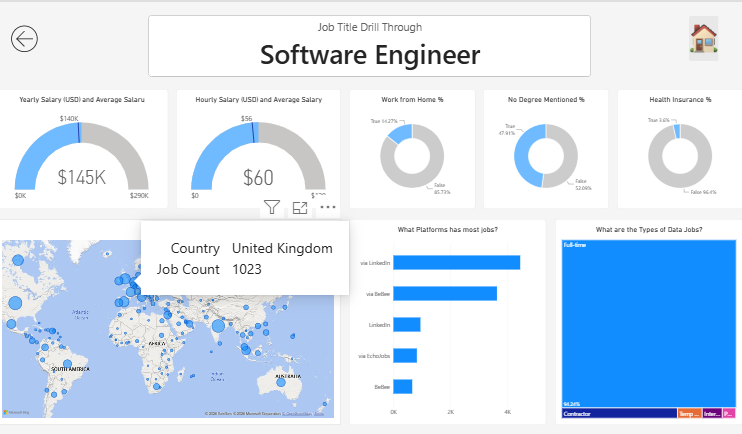

This screenshot's page, from the dashboard's own definition file:
{"tool":"powerbi","page":{"name":"Job Title Drill Through","canvas":[1920,1080],"ordinal":2},"visuals":[{"type":"cardVisual","fields":{"Data":["Min(job_postings_flat.job_title_short)"]},"box":[411.1,33.3,1108.9,155.6],"z":1000},{"type":"actionButton","box":[28.9,34.2,142.1,113.2],"z":2000},{"type":"gauge","fields":{"TargetValue":["Avg(Job_Postings_Flat.salary_year_avg)1"],"Y":["Median(Job_Postings_Flat.salary_year_avg)"]},"box":[28.4,216.4,432.8,300],"z":3000},{"type":"gauge","fields":{"TargetValue":["Avg(Job_Postings_Flat.salary_hour_avg)1"],"Y":["Median(Job_Postings_Flat.salary_hour_avg)"]},"box":[480.6,216.4,411.9,300],"z":4000},{"type":"donutChart","title":"Work from Home %","fields":{"Category":["Job_Postings_Flat.job_work_from_home"],"Y":["CountNonNull(Job_Postings_Flat.job_work_from_home)"]},"box":[911.9,216.4,315.8,300],"z":5000},{"type":"donutChart","title":"Health Insurance %","fields":{"Category":["Job_Postings_Flat.job_health_insurance"],"Y":["CountNonNull(Job_Postings_Flat.job_health_insurance)"]},"box":[1583.6,216.4,315.8,300],"z":6000},{"type":"donutChart","title":"No Degree Mentioned %","fields":{"Category":["Job_Postings_Flat.job_no_degree_mention"],"Y":["CountNonNull(Job_Postings_Flat.job_no_degree_mention)"]},"box":[1247.5,217.5,315,300],"z":7000},{"type":"map","title":"Jobs Globally","fields":{"Category":["Job_Postings_Flat.job_country"],"Size":["CountNonNull(Job_Postings_Flat.job_title_short)"]},"box":[27.5,542.5,865,515],"z":8000},{"type":"treemap","title":"What are the Types of Data Jobs?","fields":{"Group":["Job_Postings_Flat.job_schedule_type"],"Values":["CountNonNull(Job_Postings_Flat.job_title_short)"]},"box":[1427.5,542.5,470,515],"z":9000},{"type":"barChart","title":"What Platforms has most jobs?","fields":{"Category":["Job_Postings_Flat.job_via"],"Y":["CountNonNull(Job_Postings_Flat.job_via)"]},"box":[912.5,542.5,492.5,515],"z":10000},{"type":"actionButton","box":[1762.4,34,74.4,112.7],"z":11000}]}

Visuals, with their boxes on the page's 1920x1080 design canvas (x1, y1, x2, y2). These are canvas units, not pixel positions in the 742x434 screenshot, which may show the page scaled, cropped or inside an application window:
cardVisual - Min(job_postings_flat.job_title_short): bbox=[411, 33, 1520, 189]
actionButton: bbox=[29, 34, 171, 147]
gauge - Avg(Job_Postings_Flat.salary_year_avg)1 x Median(Job_Postings_Flat.salary_year_avg): bbox=[28, 216, 461, 516]
gauge - Avg(Job_Postings_Flat.salary_hour_avg)1 x Median(Job_Postings_Flat.salary_hour_avg): bbox=[481, 216, 892, 516]
"Work from Home %" donutChart: bbox=[912, 216, 1228, 516]
"Health Insurance %" donutChart: bbox=[1584, 216, 1899, 516]
"No Degree Mentioned %" donutChart: bbox=[1248, 218, 1562, 518]
"Jobs Globally" map: bbox=[28, 542, 892, 1058]
"What are the Types of Data Jobs?" treemap: bbox=[1428, 542, 1898, 1058]
"What Platforms has most jobs?" barChart: bbox=[912, 542, 1405, 1058]
actionButton: bbox=[1762, 34, 1837, 147]
